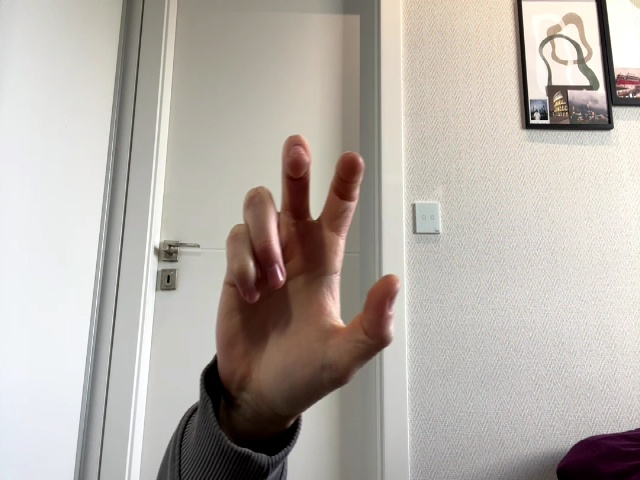CH: (216, 135, 398, 415)
